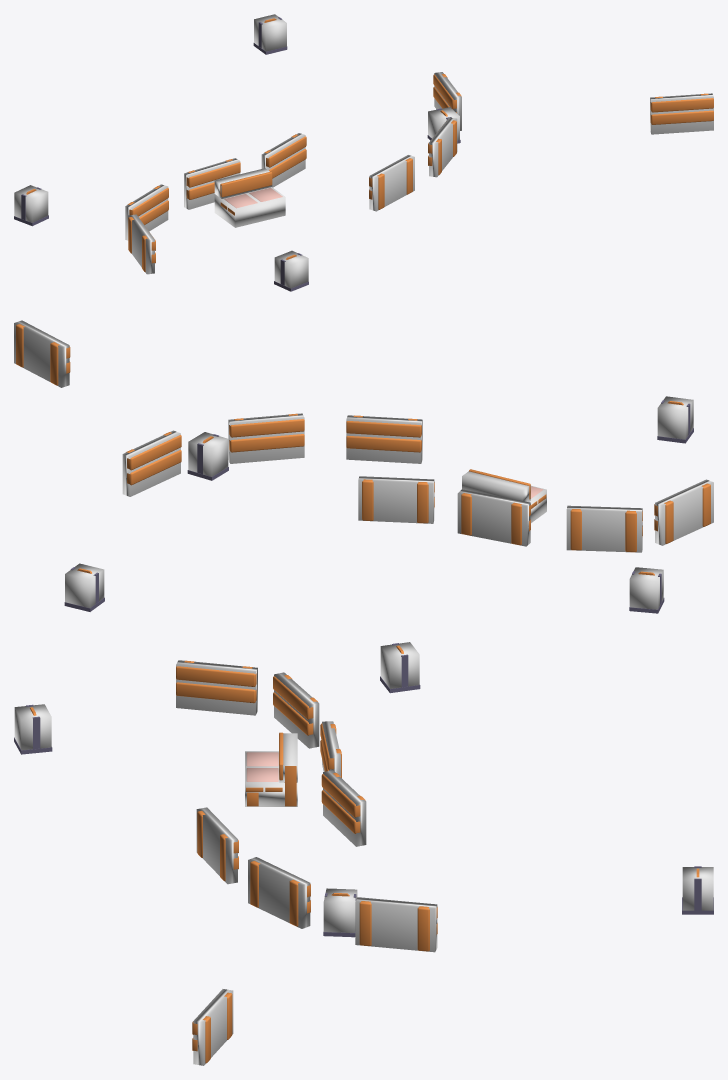
Rendered from sceneryDynamic.glb.
The picture shows the model from 3 angles, top to bottom: view 1: azimuth 30°, elevation 25°; view 2: azimuth 150°, elevation 25°; view 3: azimuth 270°, elevation 25°; orthographic projection. The views are drawn at different scales.
Parts seen in each view (by area): view 1: cube, Cube.138, cube.006, cube.009, Cube.158, Cube.162, Cube.150, Cube.134, cube.007, Cube.131, cube.004, Cube.048 (+9 smaller); view 2: cube.002, cube.003, cube.005, cube.004, Cube.135, Cube.136, cube.009, cube.007, cube.006, Cube.137, cube.008, Cube.150 (+9 smaller); view 3: cube.008, cube.007, Cube.133, cube.004, cube.006, cube.009, Cube.162, Cube.154, cube.002, Cube.158, cube.003, Cube.132 (+8 smaller).
Part boxes in pixels (x1=…): cube: x1=214, y1=187, x2=285, y2=227; Cube.138: x1=650, y1=93, x2=713, y2=124; cube.006: x1=369, y1=155, x2=414, y2=211; cube.009: x1=650, y1=93, x2=713, y2=134; Cube.158: x1=274, y1=250, x2=308, y2=288; Cube.162: x1=14, y1=185, x2=48, y2=222; Cube.150: x1=254, y1=14, x2=286, y2=51; Cube.134: x1=186, y1=159, x2=240, y2=199; cube.007: x1=429, y1=117, x2=457, y2=177; Cube.131: x1=264, y1=134, x2=306, y2=178; cube.004: x1=128, y1=214, x2=154, y2=274; Cube.048: x1=220, y1=171, x2=272, y2=215; cube.002: x1=566, y1=505, x2=642, y2=552; cube.003: x1=358, y1=476, x2=434, y2=523; cube.005: x1=457, y1=489, x2=530, y2=546; cube.004: x1=655, y1=479, x2=713, y2=545; Cube.135: x1=346, y1=415, x2=421, y2=452; Cube.136: x1=229, y1=413, x2=304, y2=452; cube.009: x1=14, y1=320, x2=69, y2=387; cube.007: x1=228, y1=413, x2=304, y2=463; cube.006: x1=346, y1=415, x2=422, y2=463; Cube.137: x1=126, y1=432, x2=181, y2=485; cube.008: x1=122, y1=430, x2=180, y2=496; Cube.150: x1=65, y1=563, x2=104, y2=607; cube.008: x1=355, y1=897, x2=437, y2=952; cube.007: x1=248, y1=857, x2=310, y2=928; Cube.133: x1=176, y1=660, x2=256, y2=703; cube.004: x1=176, y1=660, x2=257, y2=715; cube.006: x1=196, y1=807, x2=237, y2=884; cube.009: x1=193, y1=989, x2=233, y2=1065; Cube.162: x1=380, y1=642, x2=419, y2=688; Cube.154: x1=323, y1=888, x2=357, y2=932; cube.002: x1=274, y1=672, x2=319, y2=748; Cube.158: x1=14, y1=704, x2=51, y2=750; cube.003: x1=323, y1=770, x2=366, y2=846; Cube.132: x1=273, y1=675, x2=317, y2=735.
Bounding box in the file's own units: 24.13 × 1.41 × 18.32.
